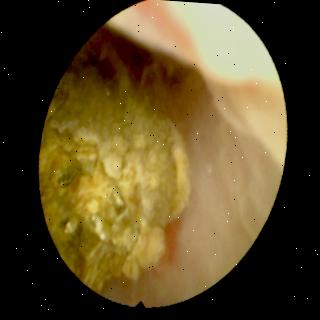stone: (45, 59, 192, 288)
tissue: (95, 4, 284, 301)
